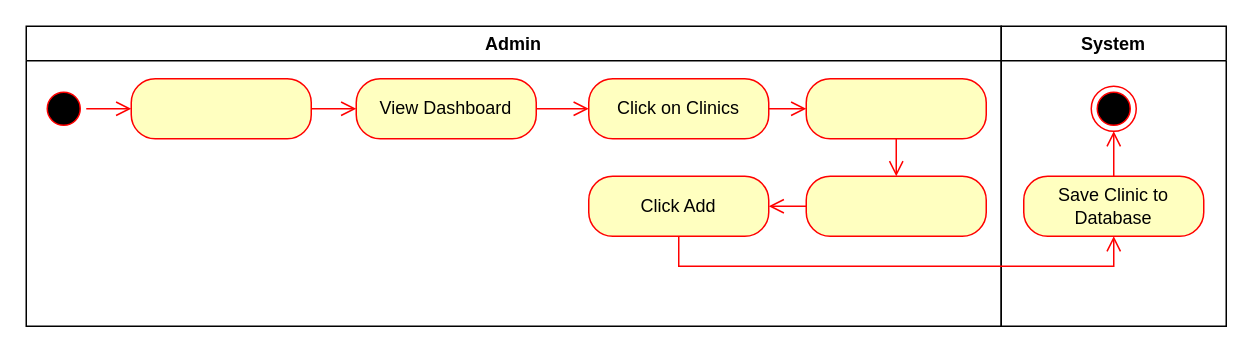
The diagram is 1253 pixels wide and 353 high, and some of its shapes have lost their labels. The shapes that lost their labels are listed below. From the top down, each one's box as (x1, y1, x2, y2) in pixels, then its label:
(130, 77, 311, 139): Login
(805, 77, 986, 139): Click on Add Clinic
(805, 175, 986, 236): Enter Clinic Info
